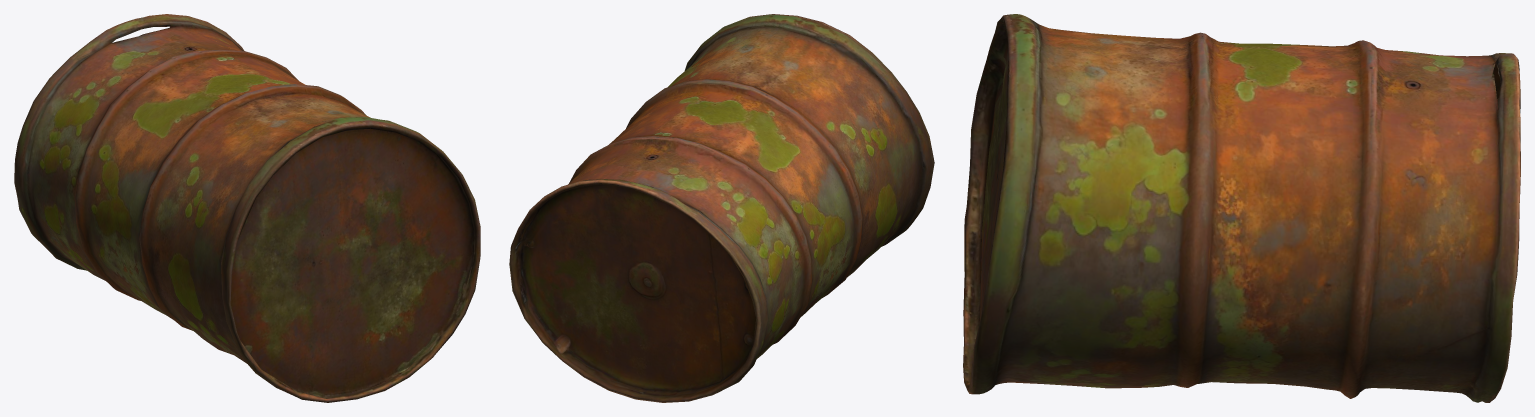
The model's file is Old Rusty v16.glb.
3 views of the same model, side by side, from view 1: azimuth 30°, elevation 25°; view 2: azimuth 150°, elevation 25°; view 3: azimuth 270°, elevation 25° (orthographic). The views are drawn at different scales.
Visible parts, largest first — view 1: Mesh0; view 2: Mesh0; view 3: Mesh0.
Boxes of the visible parts, left/top/right/bottom form: Mesh0: left=14, top=14, right=480, bottom=402; Mesh0: left=509, top=14, right=934, bottom=402; Mesh0: left=963, top=14, right=1520, bottom=402.
Size of the model in its own units: 1.45 by 1.39 by 1.97.
Materials: 1 (1 with a texture image).
